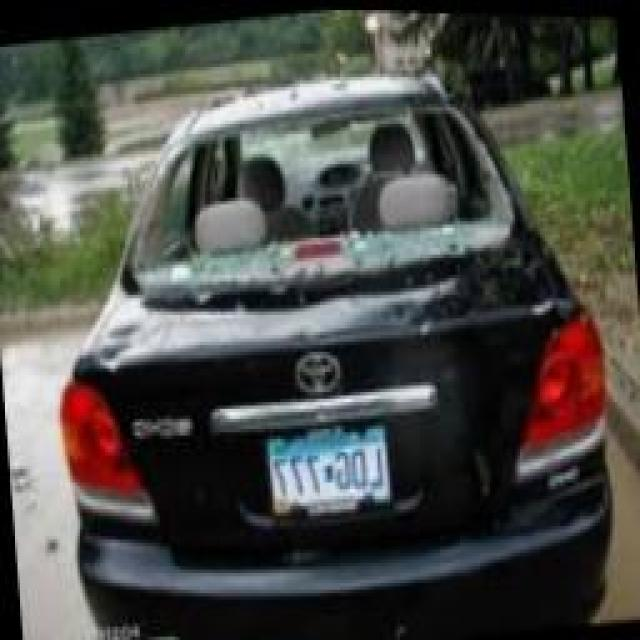Windshield: (140, 84, 508, 303)
